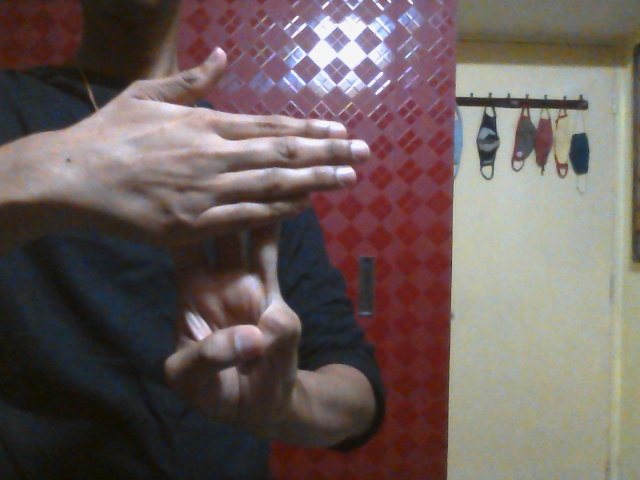M: (65, 45, 370, 428)
